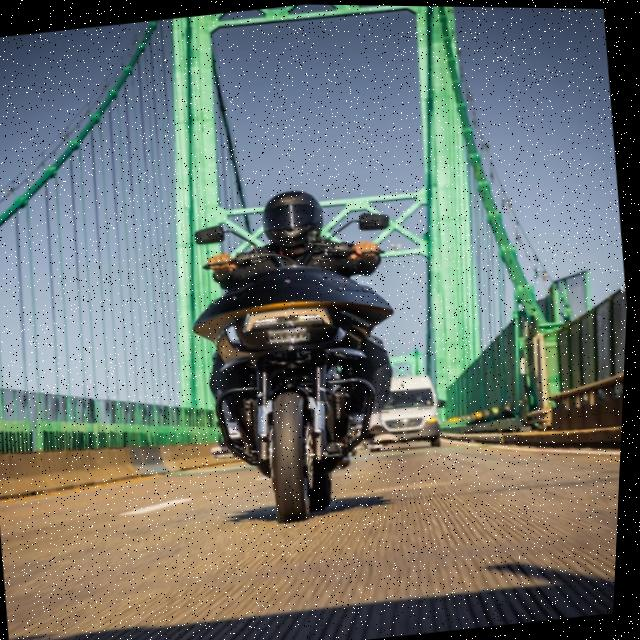helmet: (257, 183, 333, 251)
